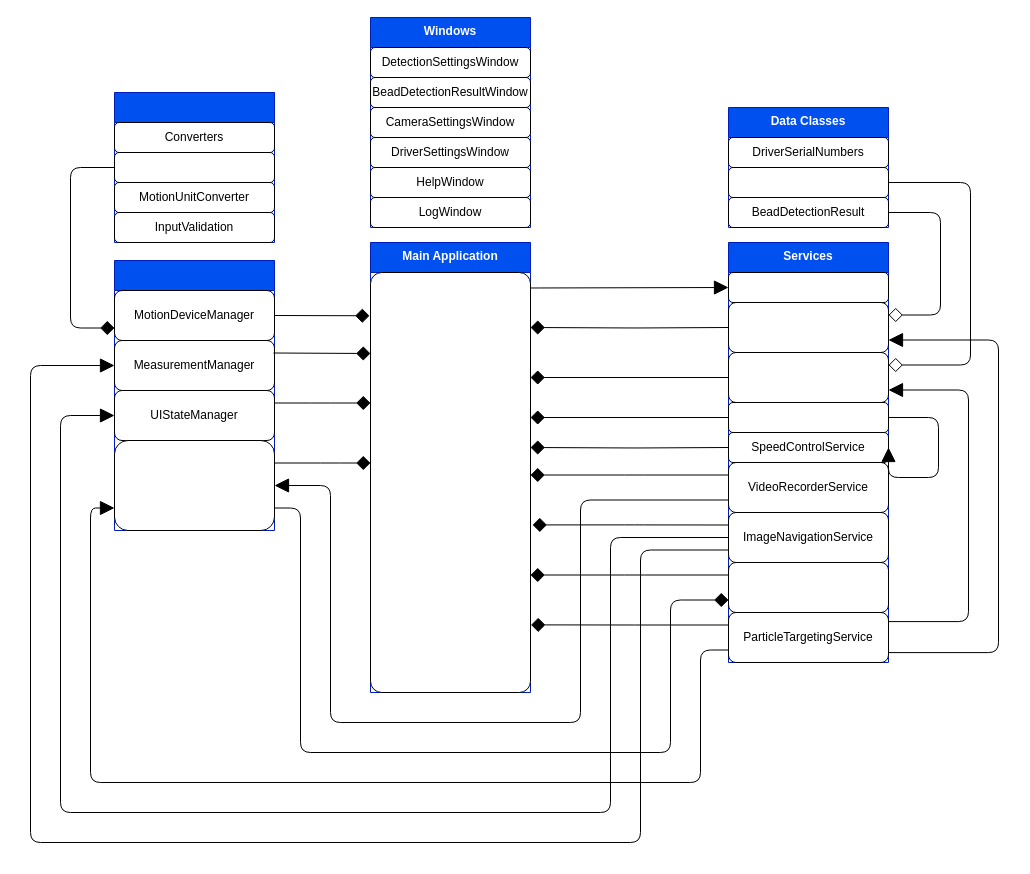
The diagram is 1030 pixels wide and 874 high, and some of its shapes have lost their labels. Here are the shapes that lost their labels. From the top down, the box of each, then its label:
(114, 152, 274, 182): DeviceReconnectConfig
(114, 92, 274, 242): Utils
(728, 166, 888, 198): CalibrationData
(728, 272, 888, 302): ImageCaptureService
(728, 302, 888, 352): BeadDetectionService
(114, 260, 274, 530): Managers
(728, 352, 888, 402): CalibrationService
(728, 402, 888, 432): MotorControlService
(114, 440, 274, 530): CameraManager
(370, 272, 530, 692): MainWindow
(728, 562, 888, 612): CameraInitializationService
